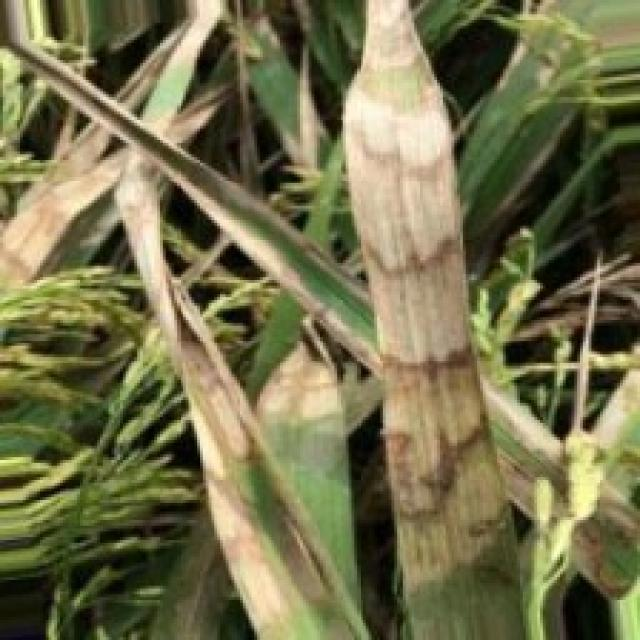Bacterial_Blight: (336, 3, 515, 550), (112, 157, 297, 640), (0, 82, 242, 300), (278, 490, 350, 614)
